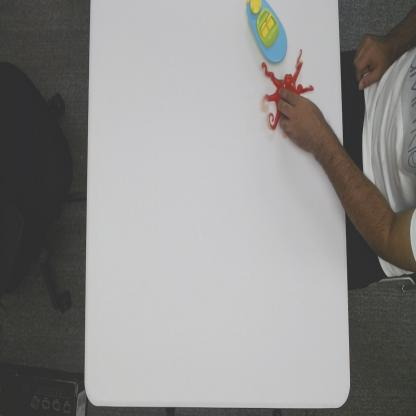Boat: (246, 0, 288, 65)
Hand: (276, 84, 332, 154)
Octopus: (260, 48, 314, 132)
